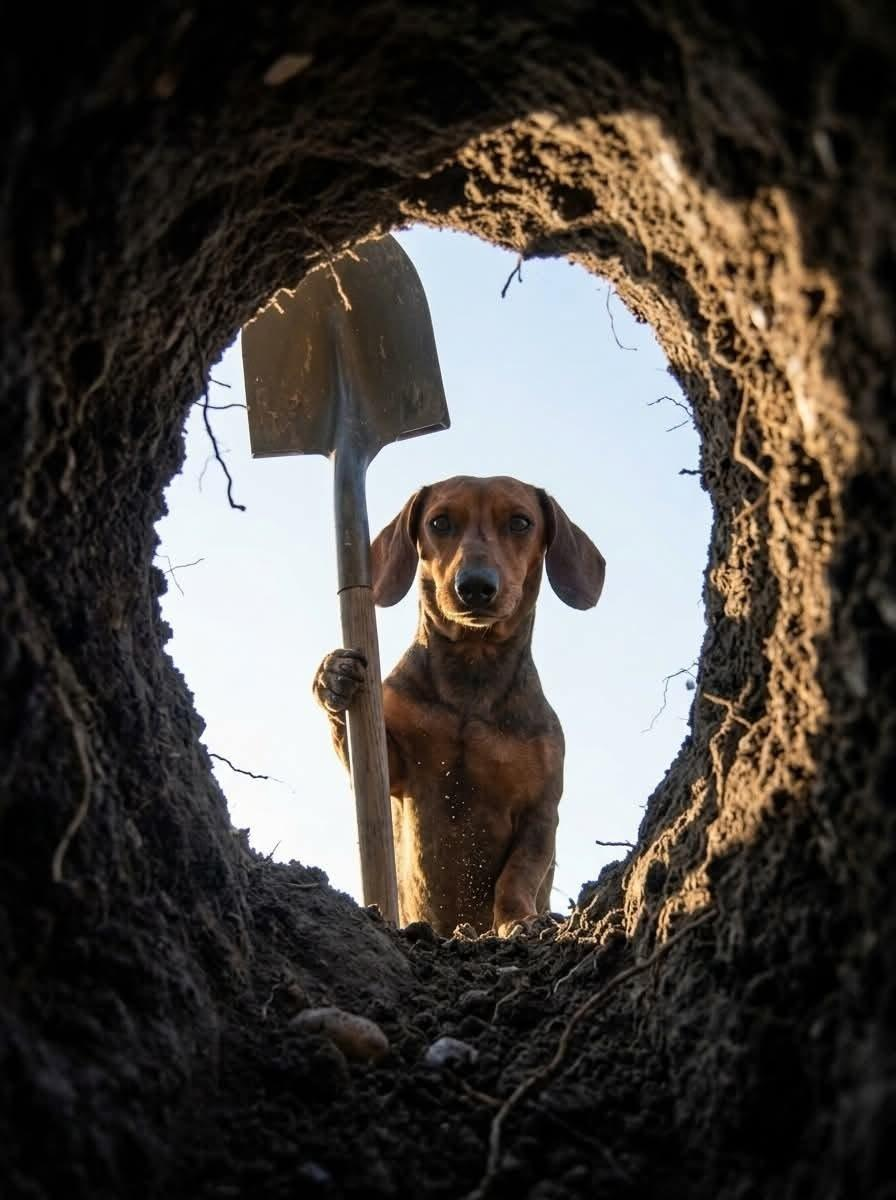adult_dog: (312, 474, 607, 945)
